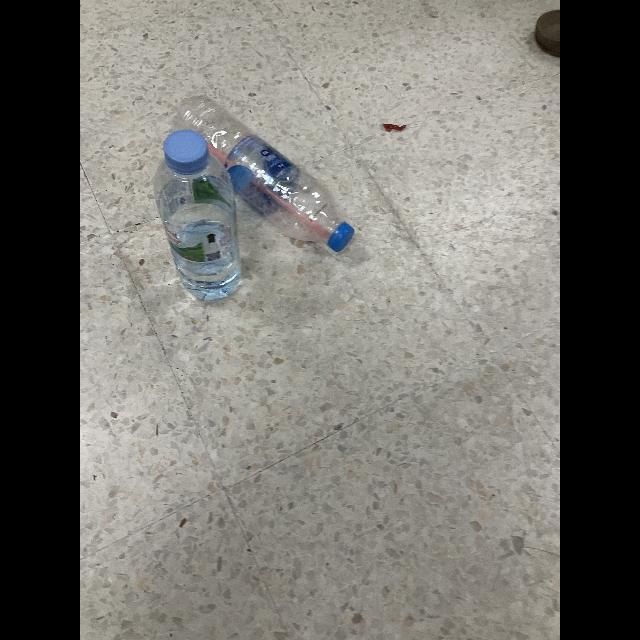plastic_bottle: (176, 95, 357, 252), (154, 130, 242, 302)
plastic_bottle_cap: (166, 130, 208, 170), (327, 223, 355, 253)
straw: (202, 132, 332, 235)
